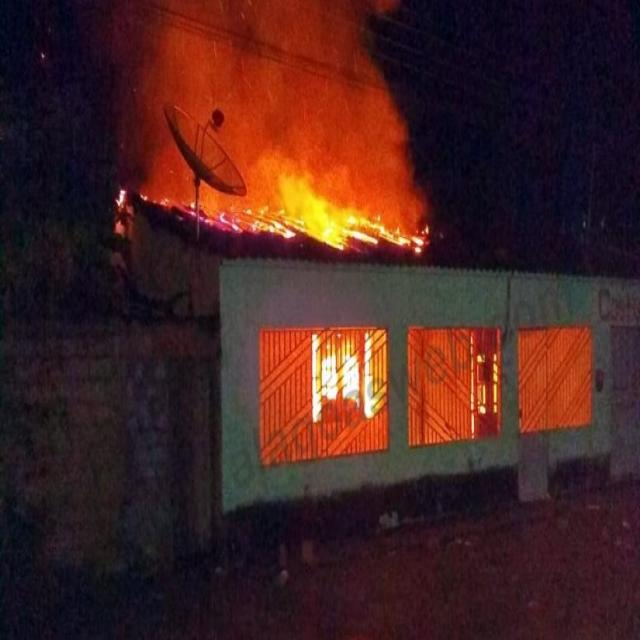Fire: (276, 172, 430, 254), (313, 334, 373, 425), (144, 194, 278, 232), (478, 354, 498, 412), (116, 190, 130, 210)
Smoke: (123, 0, 343, 170), (342, 0, 428, 206)
